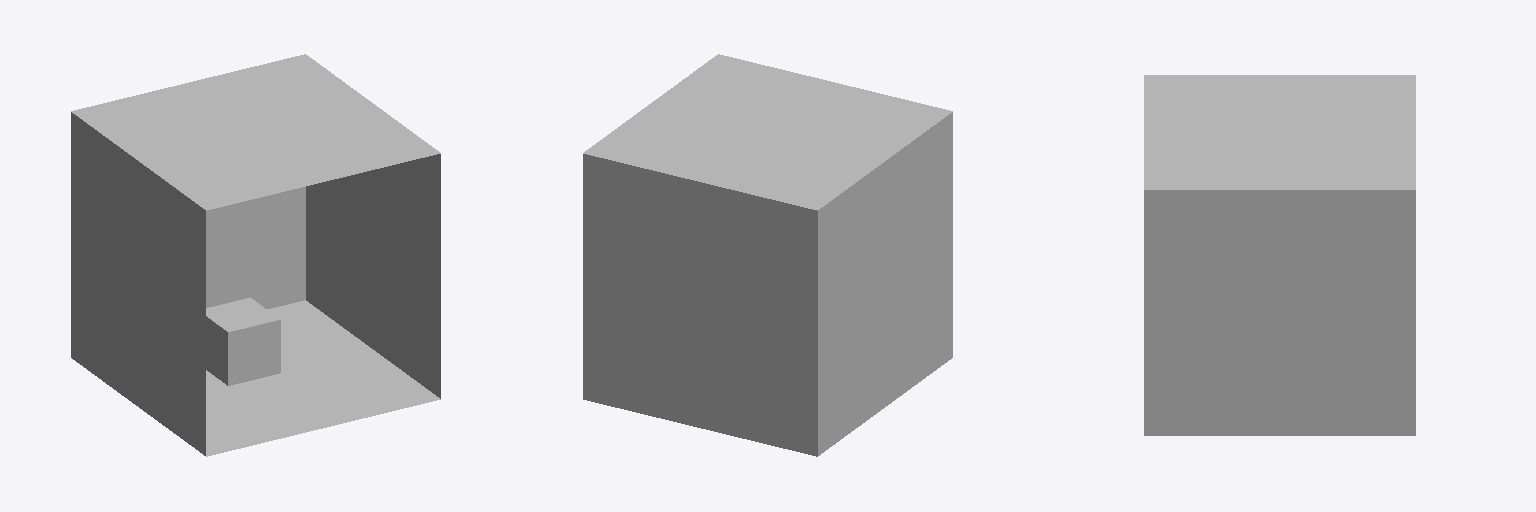
The model's file is room_tris.obj.
3 renders of one model, left to right at view 1: azimuth 30°, elevation 25°; view 2: azimuth 150°, elevation 25°; view 3: azimuth 270°, elevation 25°, orthographic.
Parts seen in each view (by area): view 1: Plane.004_Plane.005, Plane.005_Plane.006, Plane.002_Plane.003, Plane.001_Plane.002, Plane.003_Plane.004, Cube_Cube.001; view 2: Plane.003_Plane.004, Plane.004_Plane.005, Plane.005_Plane.006; view 3: Plane.002_Plane.003, Plane.005_Plane.006.
Part boxes in pixels (left/top/right/bottom): Plane.004_Plane.005: left=71, top=112, right=205, bottom=455; Plane.005_Plane.006: left=71, top=54, right=440, bottom=210; Plane.002_Plane.003: left=306, top=154, right=440, bottom=398; Plane.001_Plane.002: left=206, top=300, right=440, bottom=456; Plane.003_Plane.004: left=206, top=187, right=305, bottom=308; Cube_Cube.001: left=206, top=297, right=280, bottom=385; Plane.003_Plane.004: left=583, top=154, right=817, bottom=456; Plane.004_Plane.005: left=818, top=112, right=952, bottom=455; Plane.005_Plane.006: left=583, top=54, right=952, bottom=210; Plane.002_Plane.003: left=1144, top=190, right=1415, bottom=435; Plane.005_Plane.006: left=1144, top=75, right=1415, bottom=189.
Size of the model in its own units: 5 by 5.02 by 5.